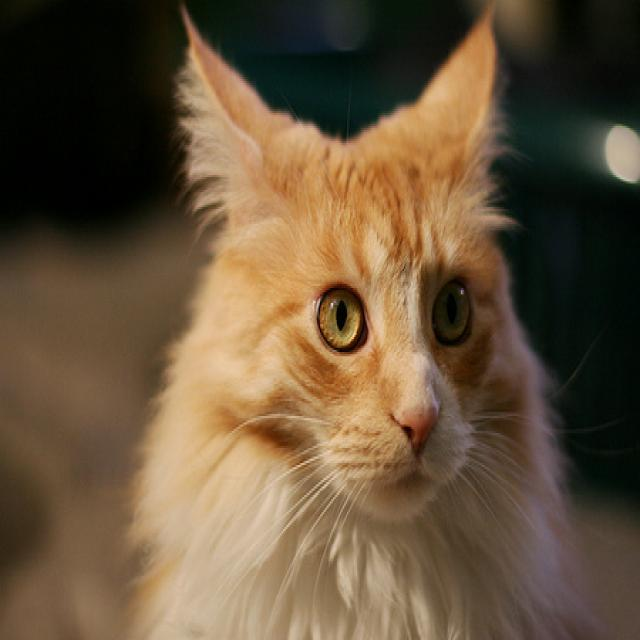Maine Coon: (128, 0, 597, 640)
